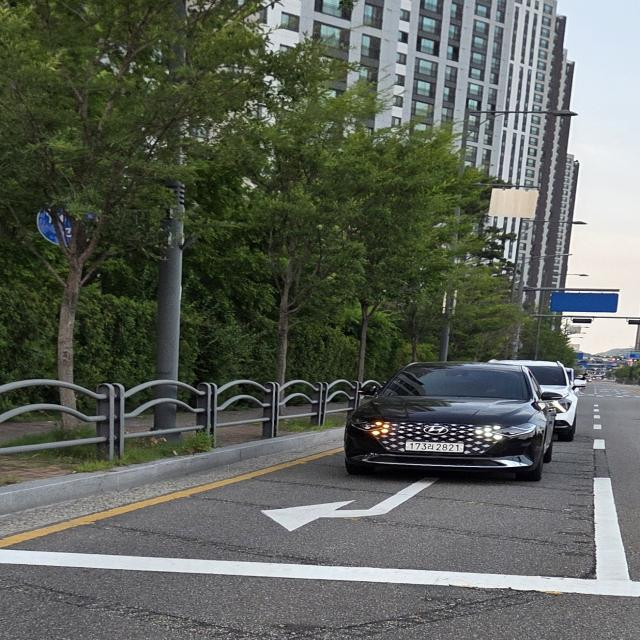car: (338, 361, 556, 482), (478, 358, 588, 443)
